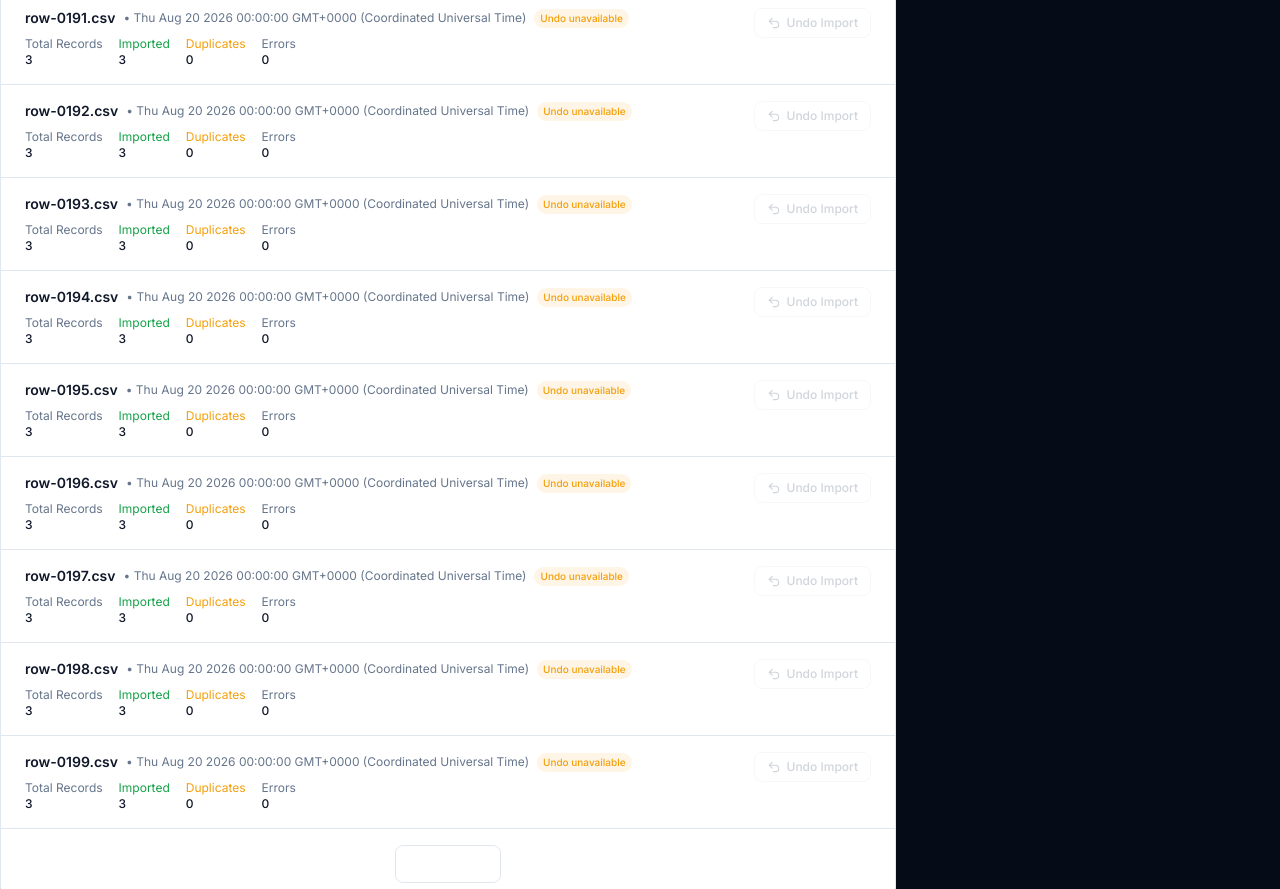
Test case: more than 200 authorized imports are all reachable › shows a Load more control and appends the remaining rows
(page scrolled)
Click the button "Load more" at (448, 864), box 395,845 -> 500,883
(page scrolled)
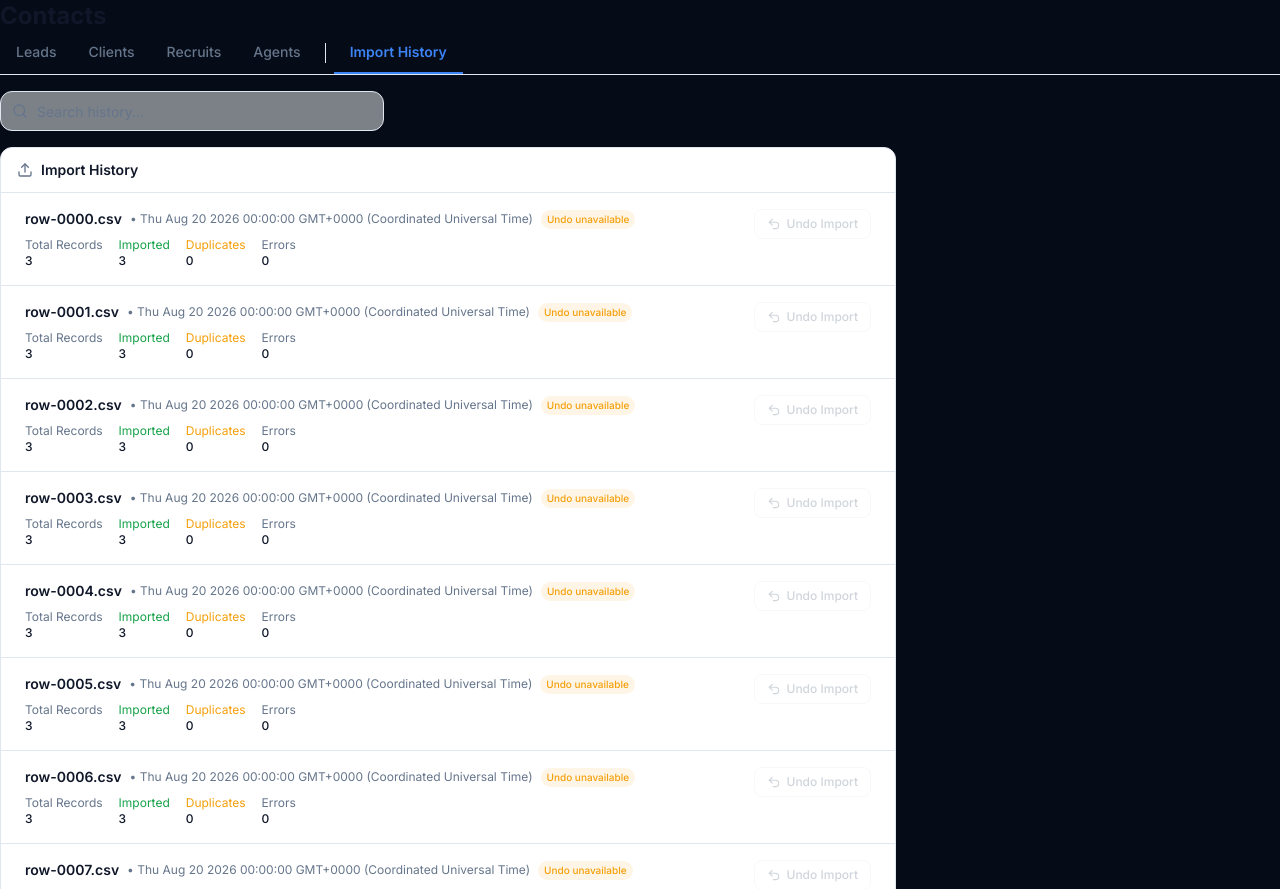
Expected: the text "row-0000.csv" is shown, 25,209 -> 122,229
Now the button "Load more" is gone
